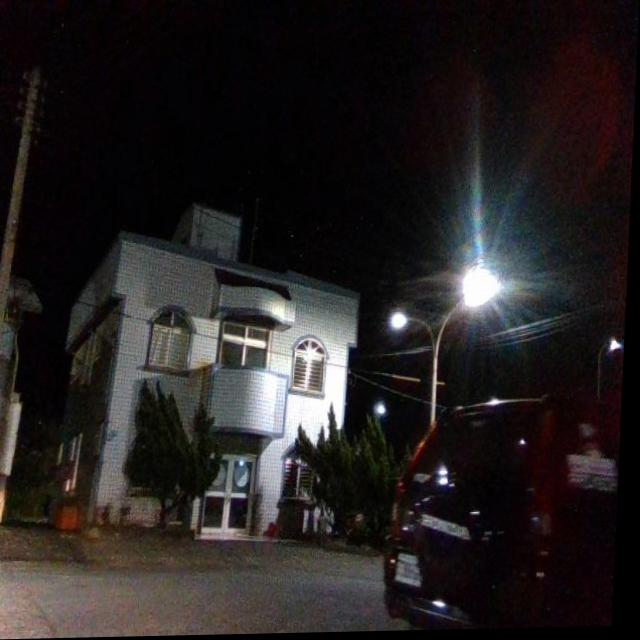pollute: (52, 498, 89, 538)
